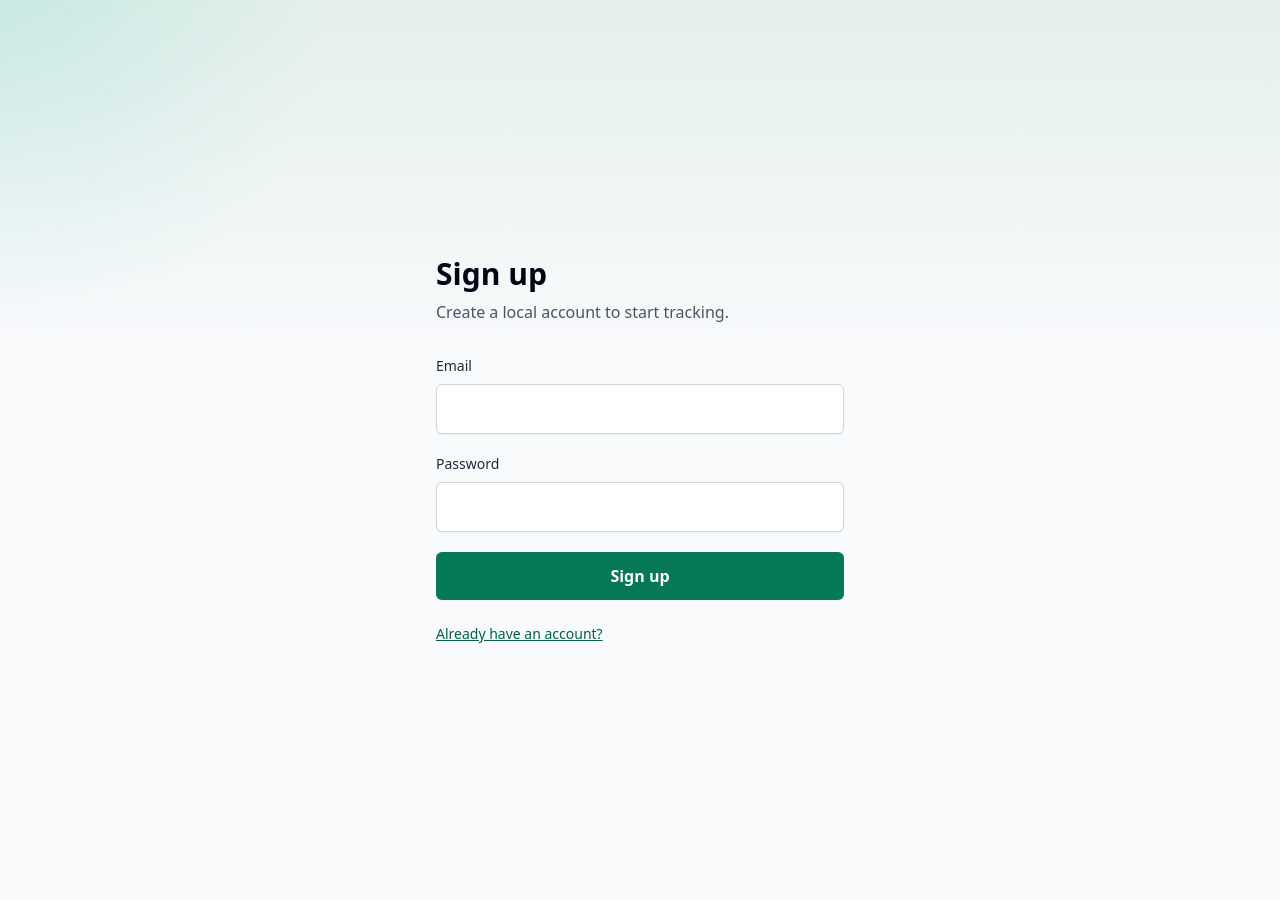
Test: auth flow › shows an error for duplicate signup email
Type "new@example.com" into the field with test id "auth-signup-email" at (640, 409), box left=436, top=384, right=844, bottom=434
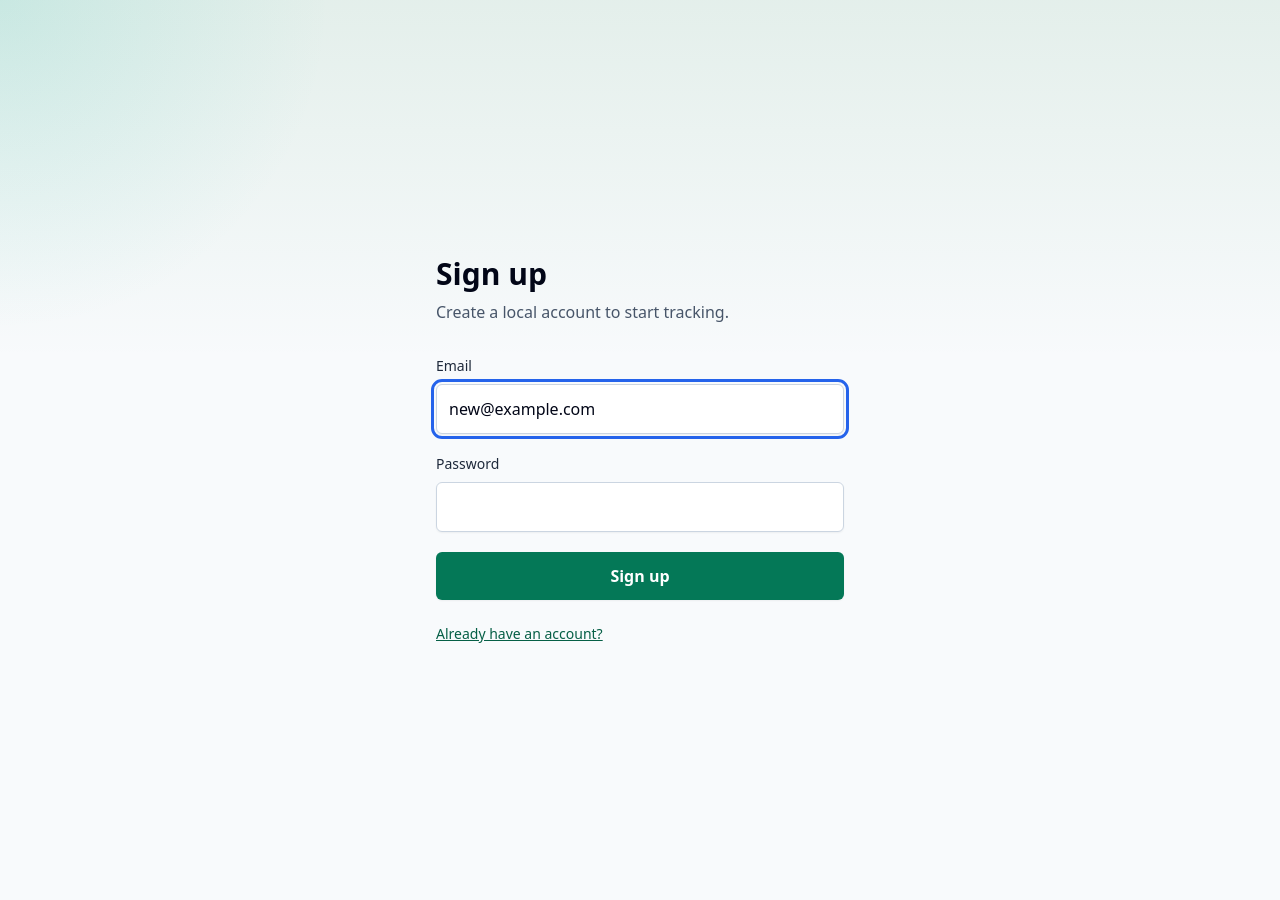
Type "secret" into the password field with test id "auth-signup-password" at (640, 507), box left=436, top=482, right=844, bottom=532
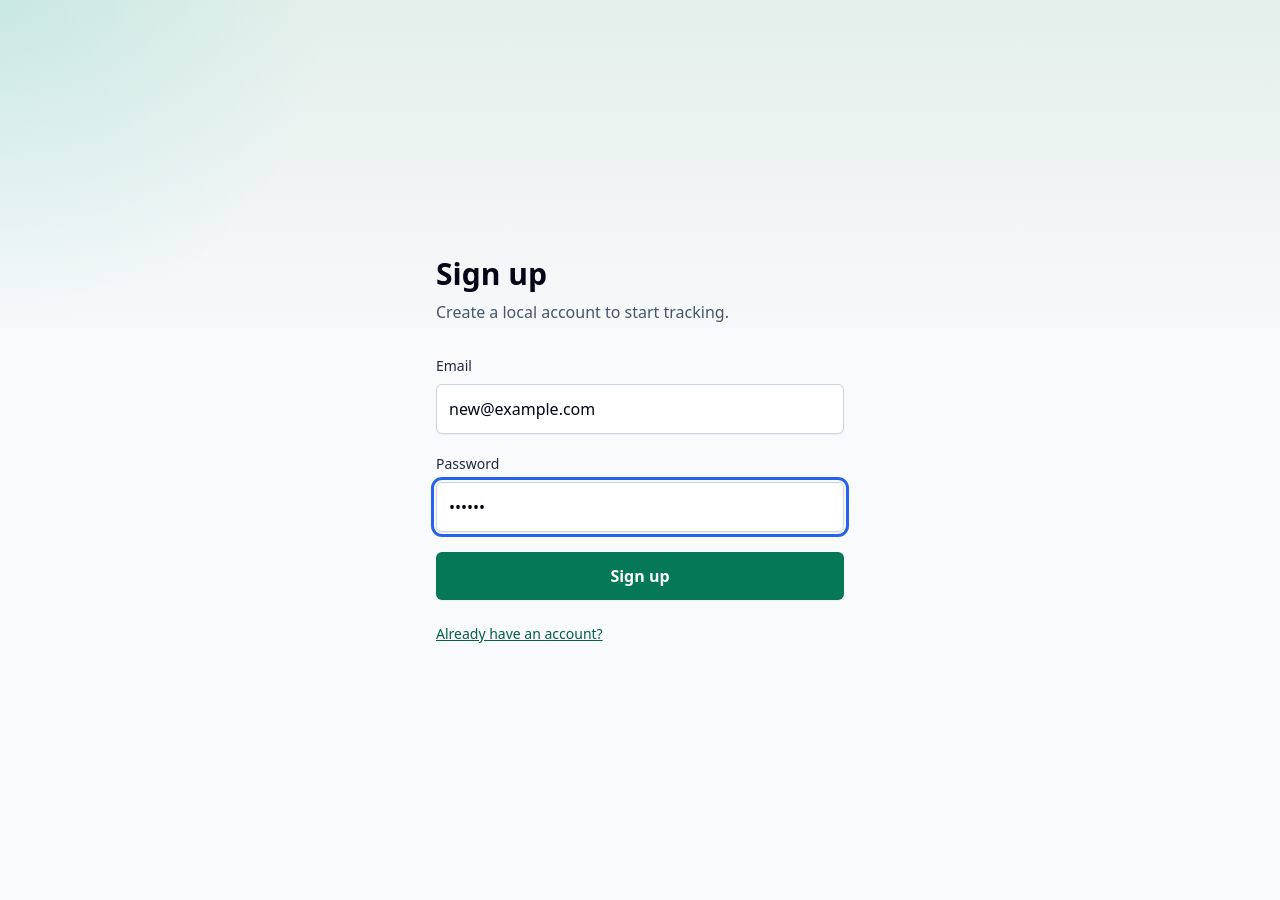
Click the button with test id "auth-signup-submit" at (640, 576), box left=436, top=552, right=844, bottom=600
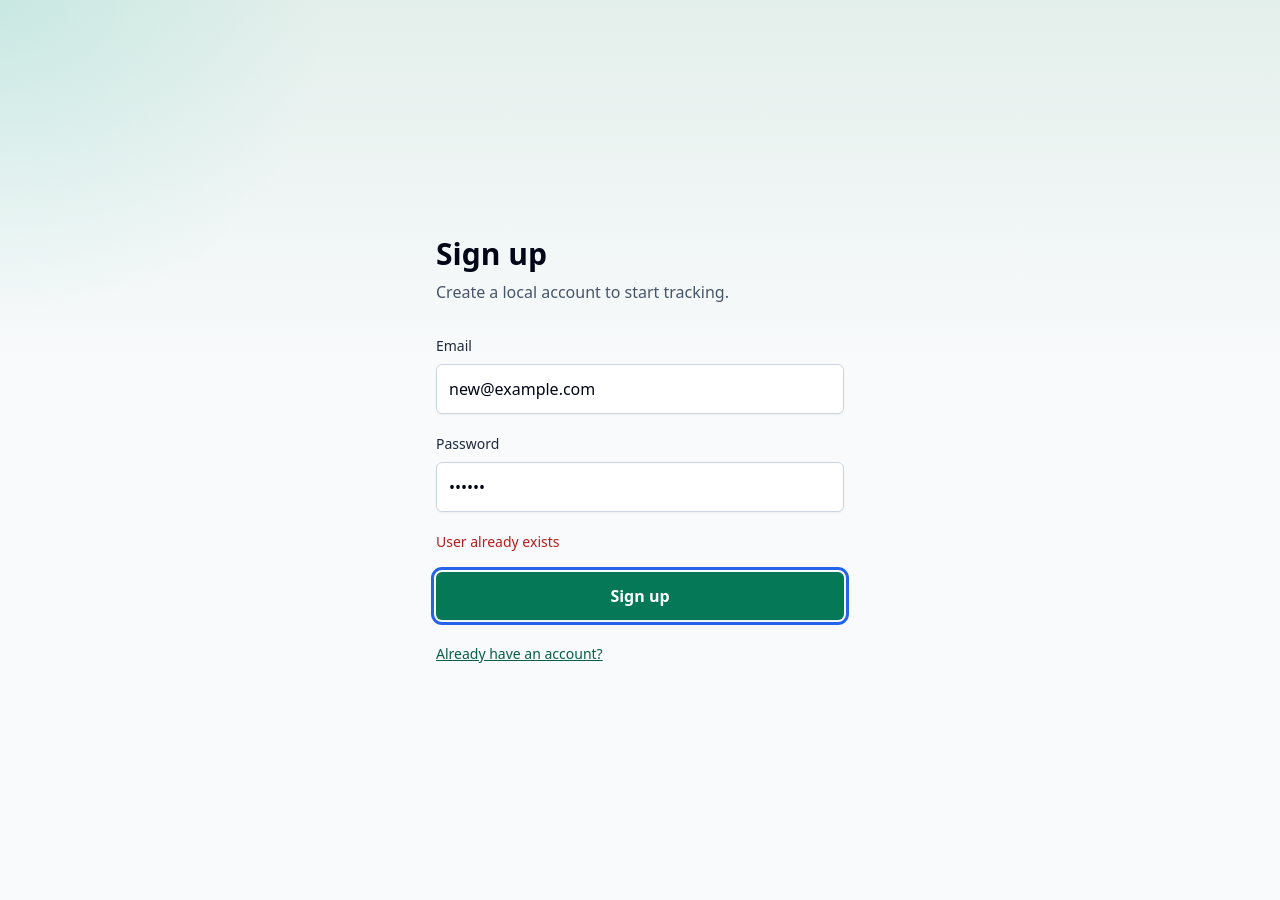
Expected: the text "User already exists" is shown, left=436, top=532, right=560, bottom=551
